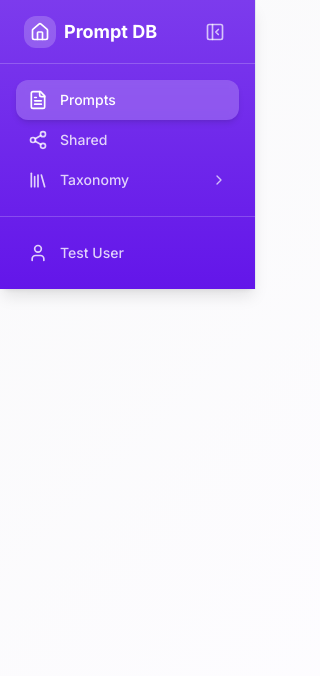
Test: Sidebar › shows the Taxonomy dropdown with its submenu only for admin users
Act — expand the dropdown.
Click the button "Taxonomy" at (128, 180), box top-left (16, 160), bottom-right (239, 200)
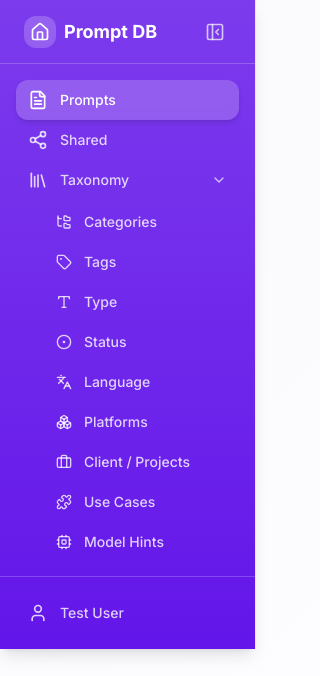
Expected: the link "Categories" is shown, top-left (56, 213), bottom-right (157, 230)
Expected: the link "Tags" is shown, top-left (56, 253), bottom-right (116, 270)
Expected: the link "Type" is shown, top-left (56, 293), bottom-right (117, 310)
